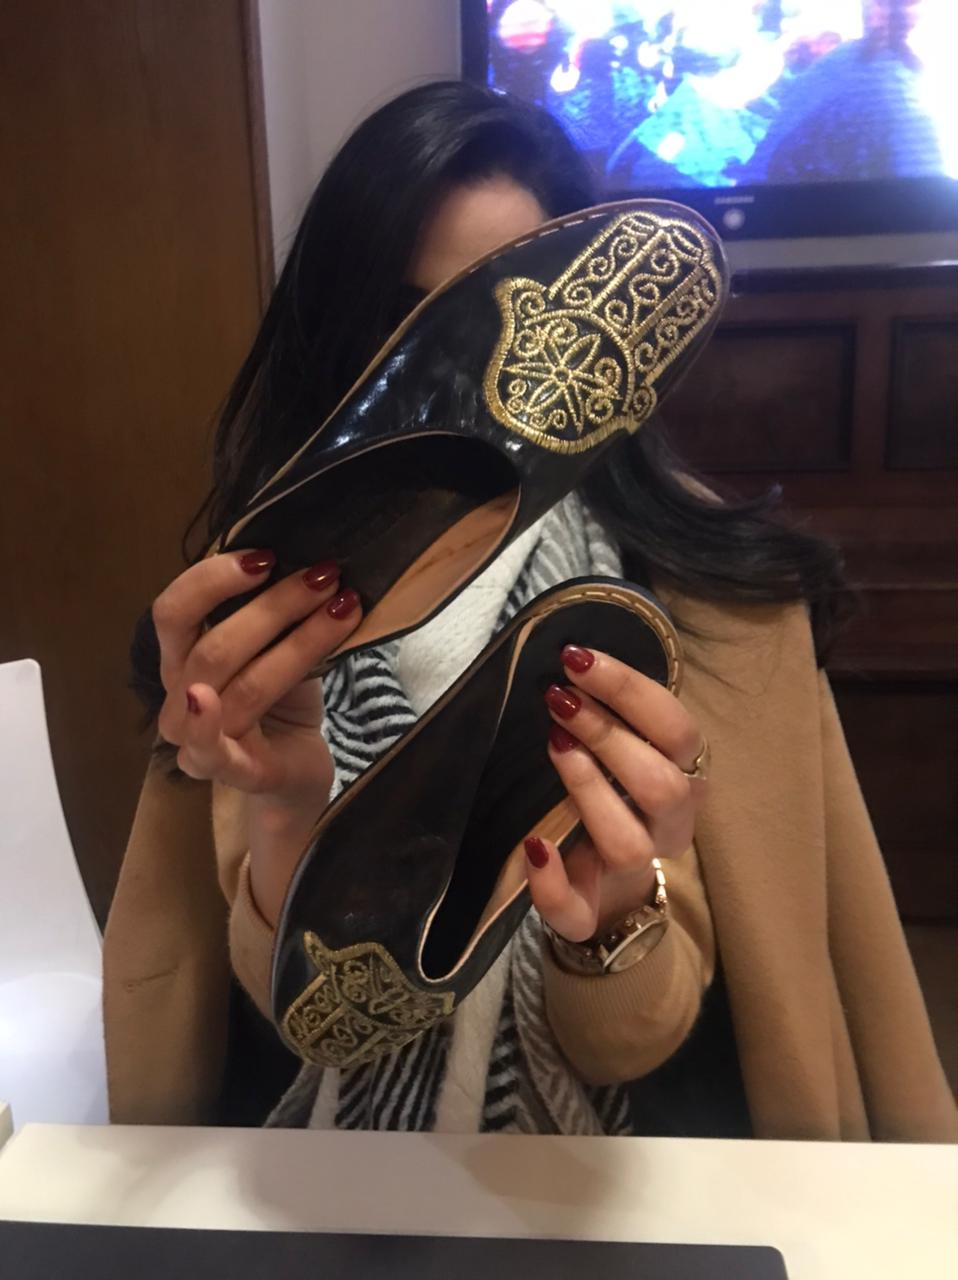balgha: (180, 153, 841, 681)
